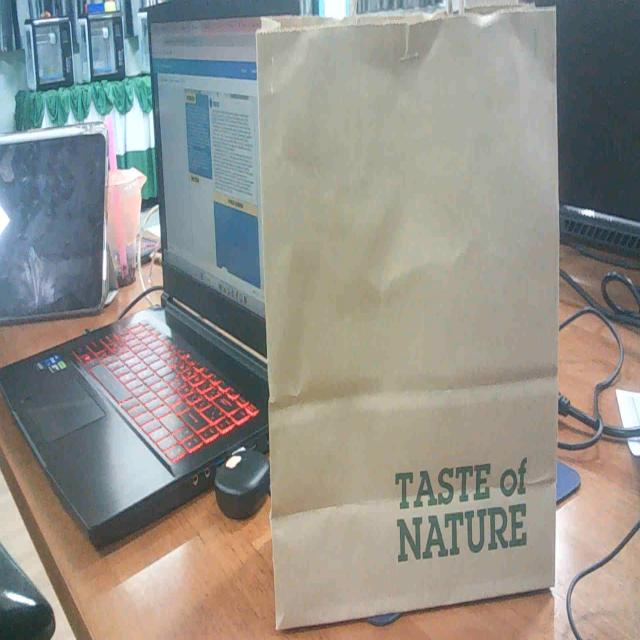bag: (252, 28, 580, 594)
